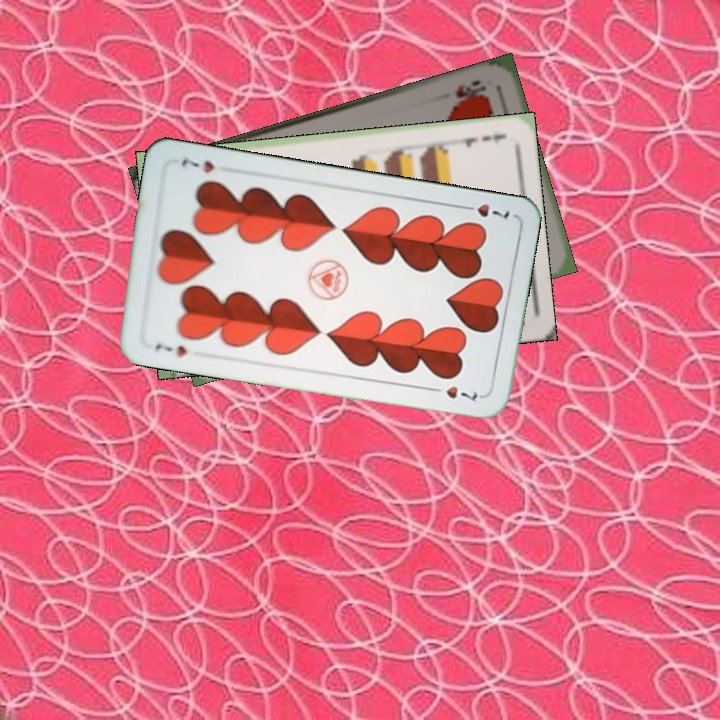E7: (451, 130, 510, 149)
H7: (456, 199, 512, 221), (151, 338, 189, 360)
HO: (451, 76, 489, 101)
